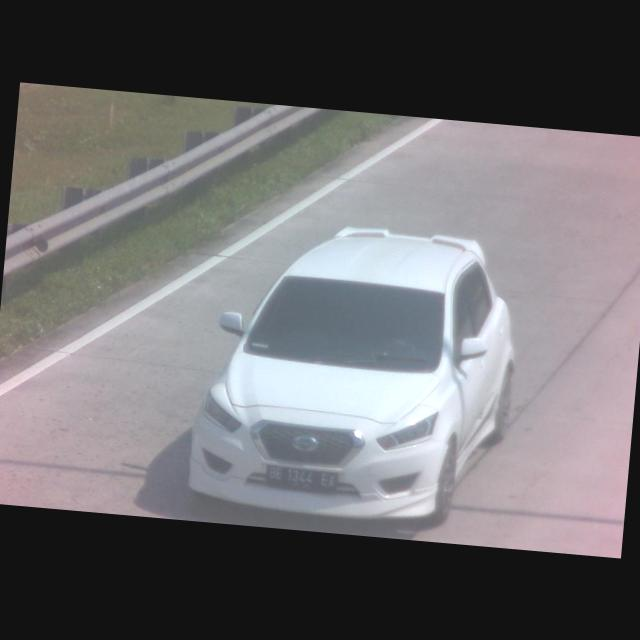plate: (262, 462, 338, 493)
